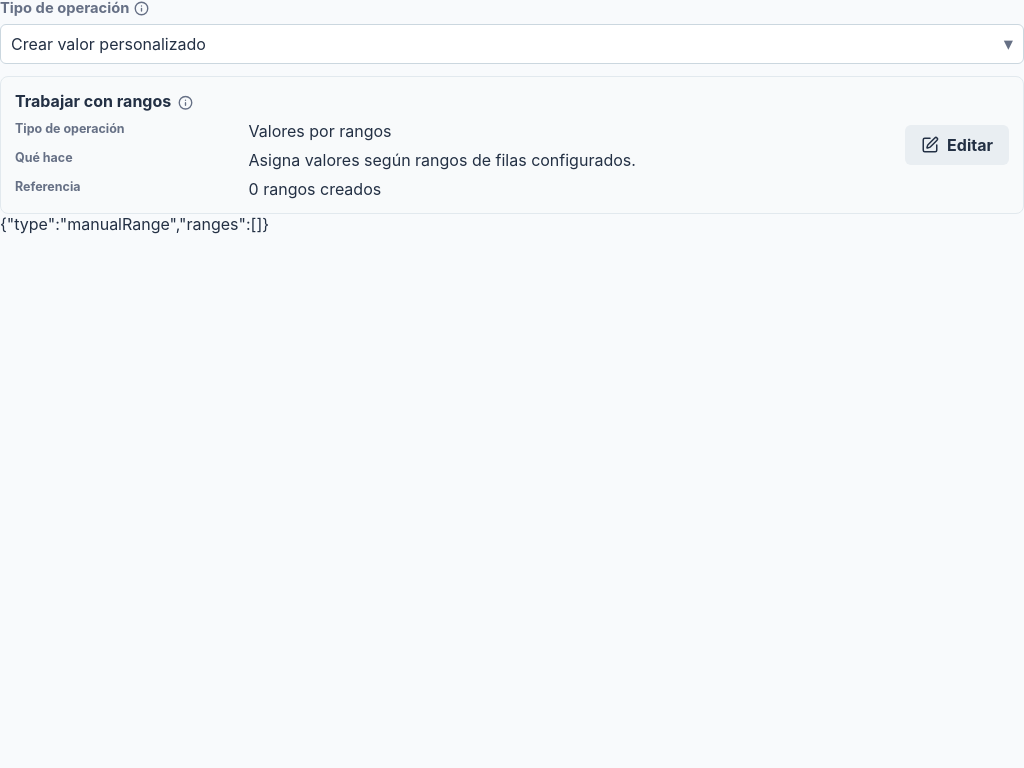
Test: OutputColumnRecipeEditor interactive modal flow › unmounts local row selection on cancel and reopens with Create range disabled
The image size is (1024, 768).
Click the button "Editar" at (957, 145), box [905,125,1009,165]
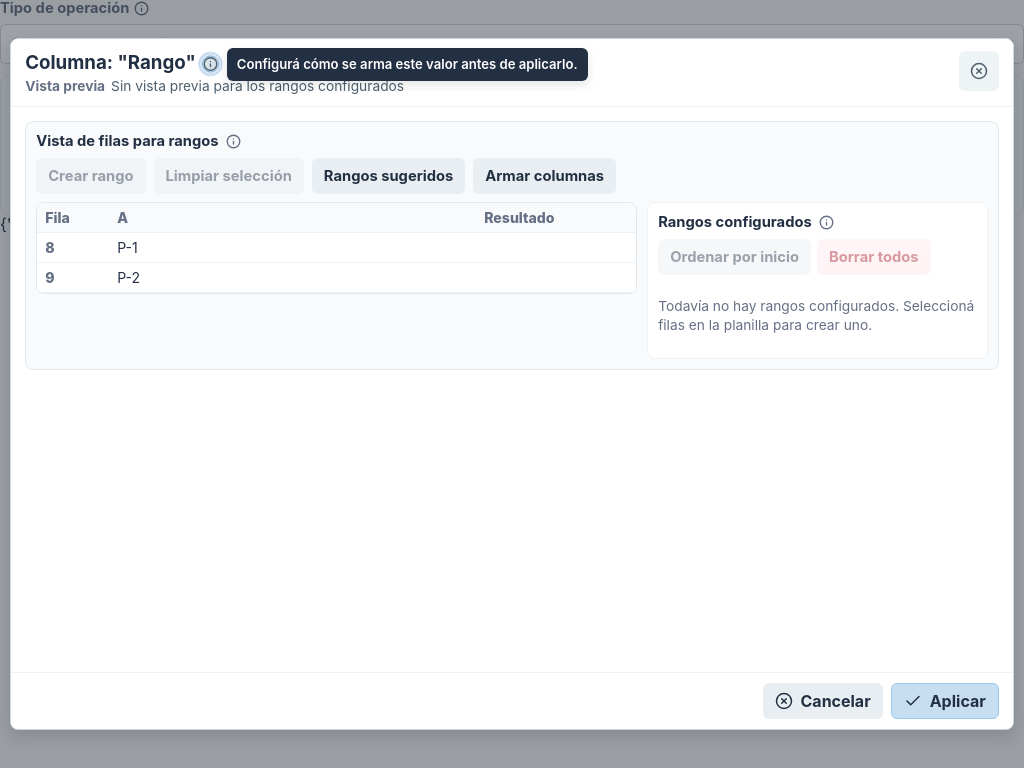
Click the button named "Seleccionar fila 8" at (337, 248), box [37,233,636,263]
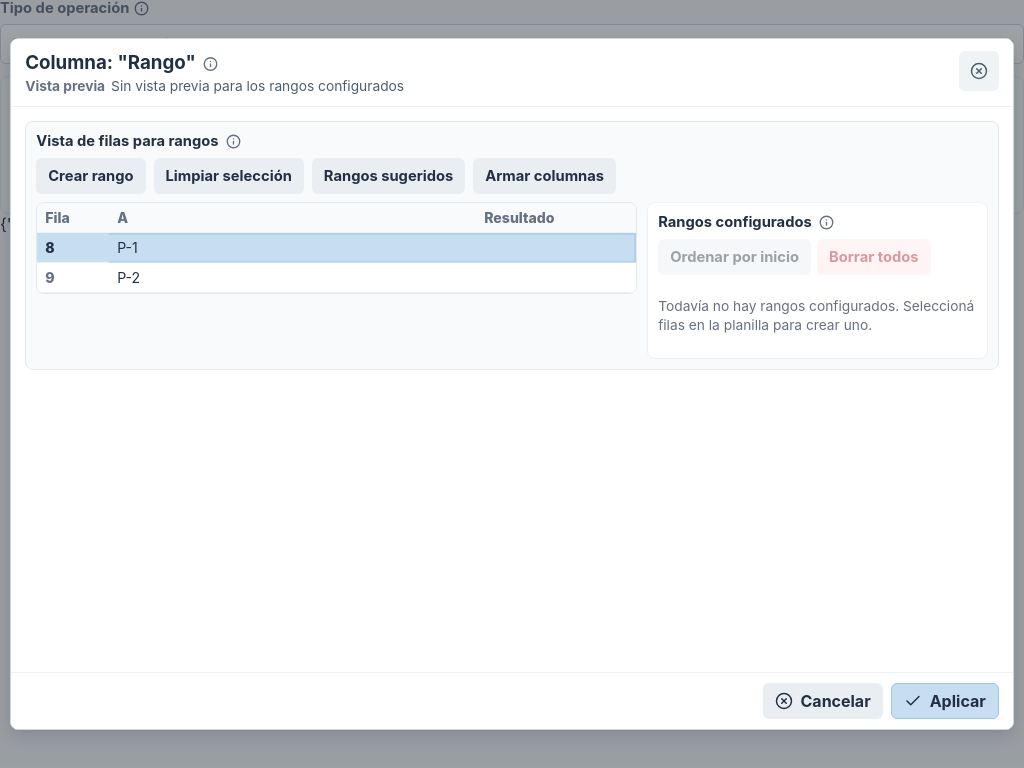
Check: the button "Crear rango" is enabled, box [36,158,146,194]
Click the button "Cancelar" at (823, 701), box [762,683,883,719]
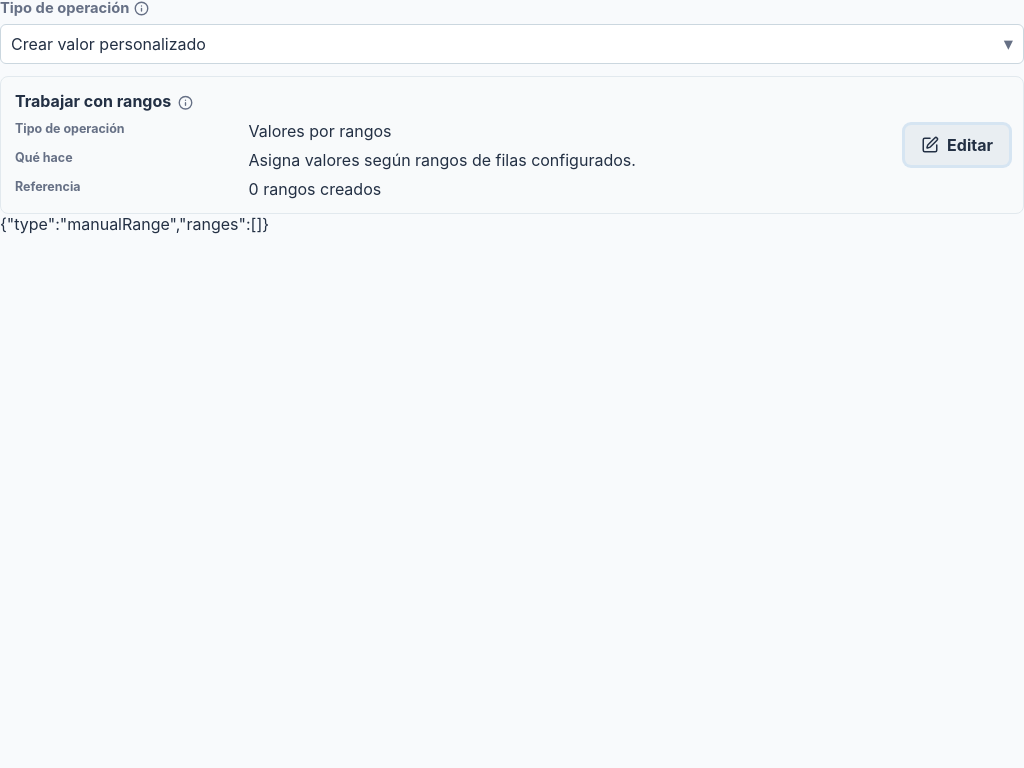
Check: the text "Vista de filas para rangos" is gone
Click the button "Editar" at (957, 145), box [905,125,1009,165]
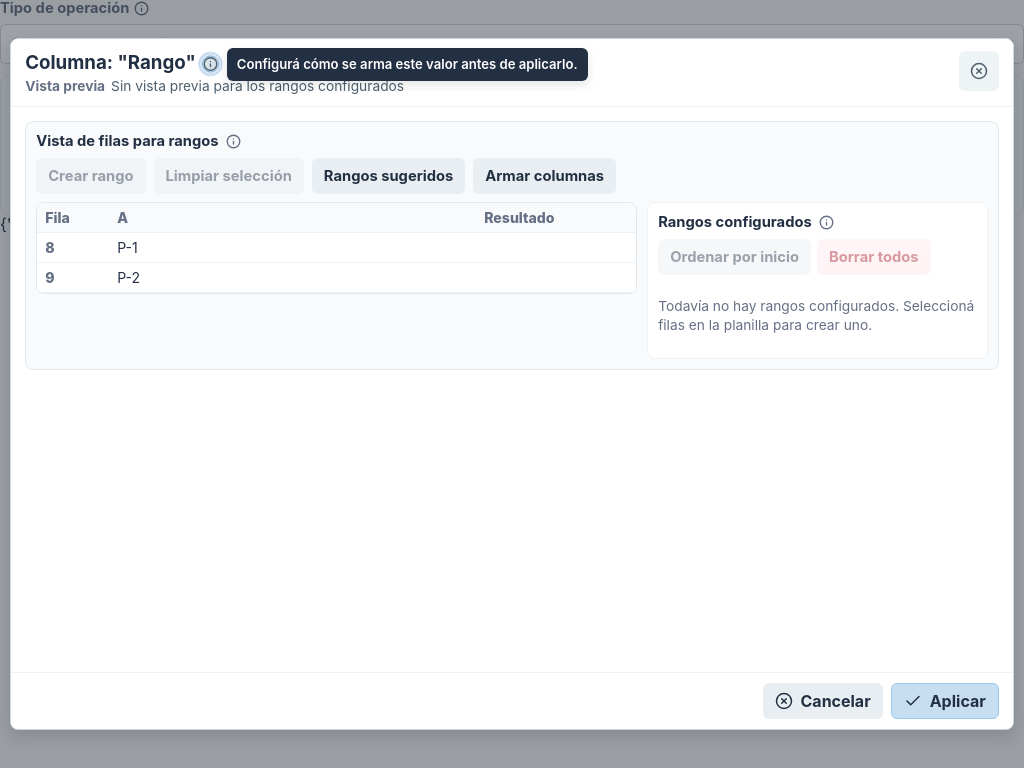
Check: the button "Crear rango" is disabled, box [36,158,146,194]
